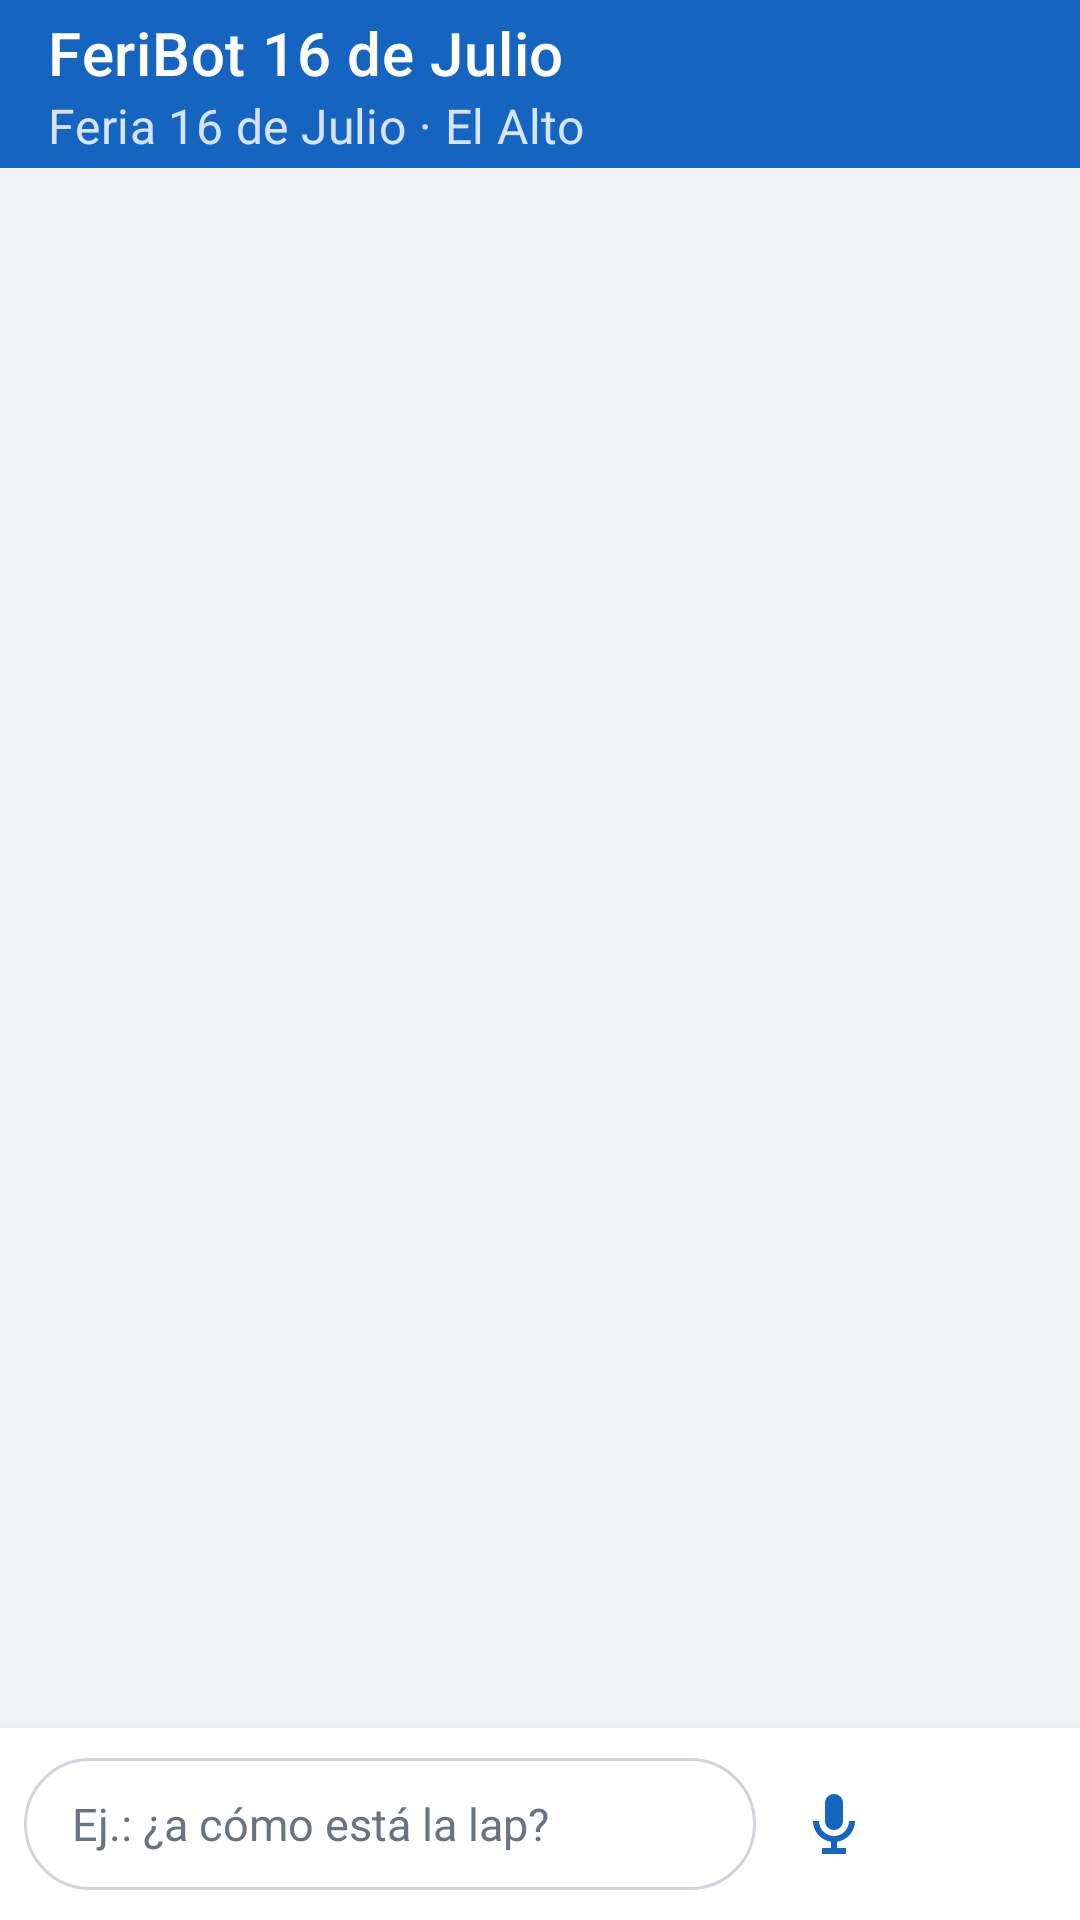

Screen size 1080x1920. Icon name, then its box in pixels as box(x1, y1, x2, y2):
Dictar por voz: box(813, 1794, 855, 1854)
